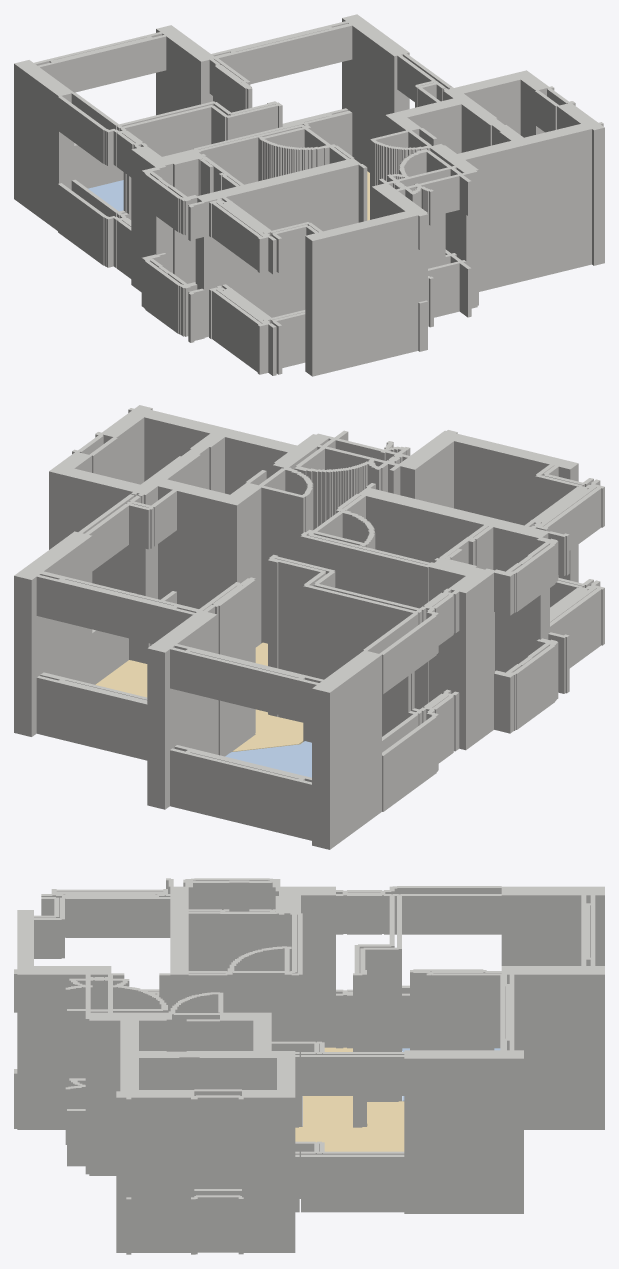
The picture shows the model from 3 angles, top to bottom: view 1: azimuth 30°, elevation 25°; view 2: azimuth 150°, elevation 25°; view 3: azimuth 270°, elevation 25°; orthographic projection. The views are drawn at different scales.
Visible parts, largest first — view 1: walls, room:bedroom:0; view 2: walls, room:living:1, room:bedroom:0; view 3: walls, room:living:1.
Part boxes in pixels (box(x1,y1,x2,y2)): walls: box(14, 14, 604, 376); room:bedroom:0: box(88, 180, 123, 211); walls: box(14, 405, 604, 849); room:living:1: box(95, 642, 303, 751); room:bedroom:0: box(225, 741, 311, 777); walls: box(14, 878, 604, 1254); room:living:1: box(295, 1047, 404, 1151).
Size of the model in its own units: 8.56 by 2.8 by 9.66.
